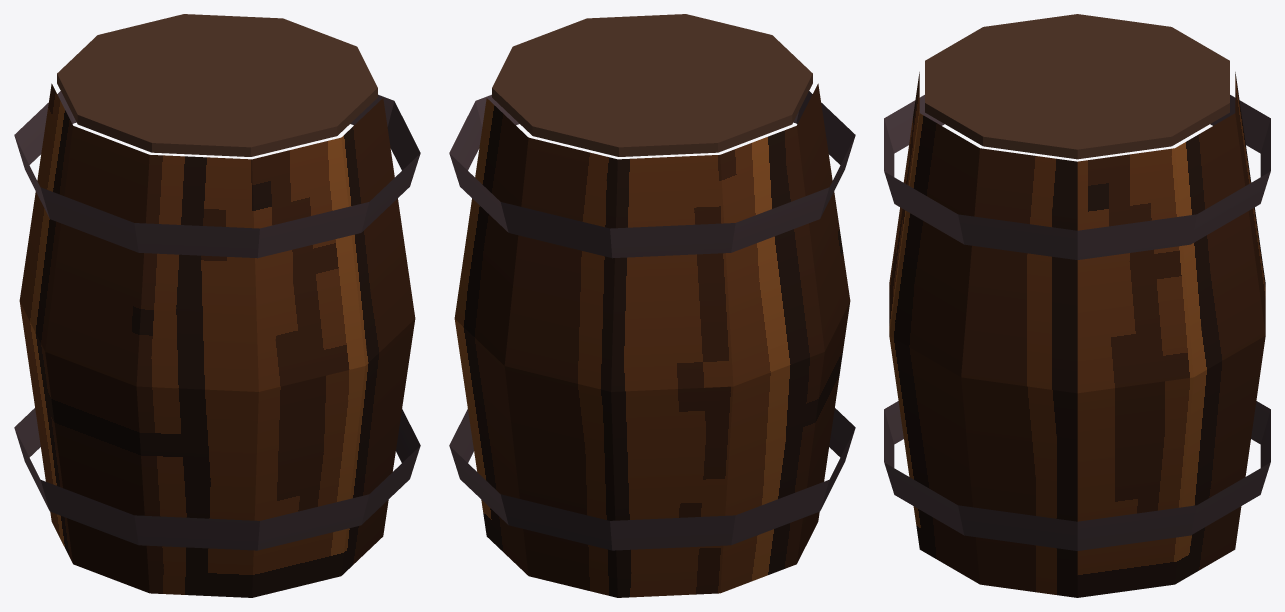
File: barrel.glb
The picture shows the model from 3 angles, left to right: view 1: azimuth 30°, elevation 25°; view 2: azimuth 150°, elevation 25°; view 3: azimuth 270°, elevation 25°; orthographic projection.
Visible parts, largest first — view 1: barrel; view 2: barrel; view 3: barrel.
Boxes of the visible parts, left/top/right/bottom form: barrel: left=14, top=14, right=420, bottom=597; barrel: left=449, top=14, right=855, bottom=597; barrel: left=884, top=14, right=1270, bottom=597.
Size of the model in its own units: 0.76 by 0.92 by 0.7228.
Materials: 2 (1 with a texture image).
